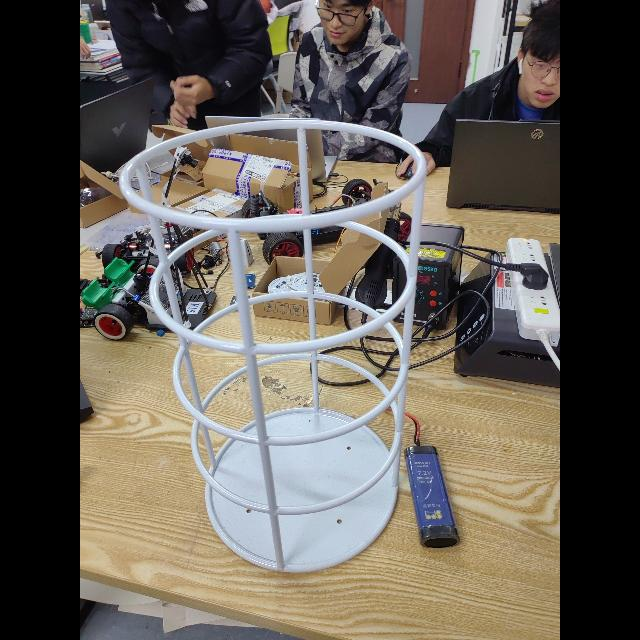S: (118, 112, 432, 580)
